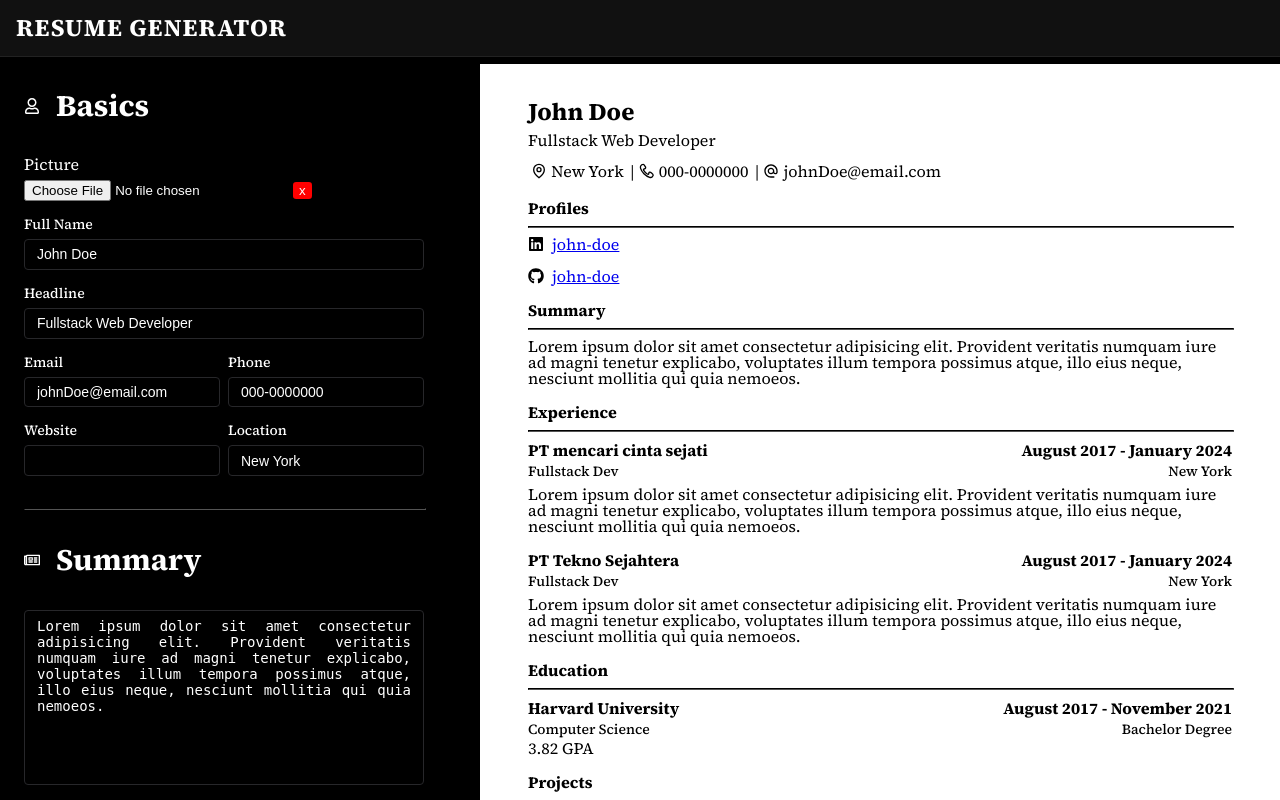
Scenario: Resume Generator › Summary › should able the change the summary data
Expected: the element with id "summary" is shown, [24, 542, 424, 785]
Replace the text in the text box named "summary" with "A full-stack developer is a software engineer proficient in both front-end and back-end development, capable of building complete web applications from start to finish. On the front end, they work wit" at (224, 698), box [24, 610, 424, 785]
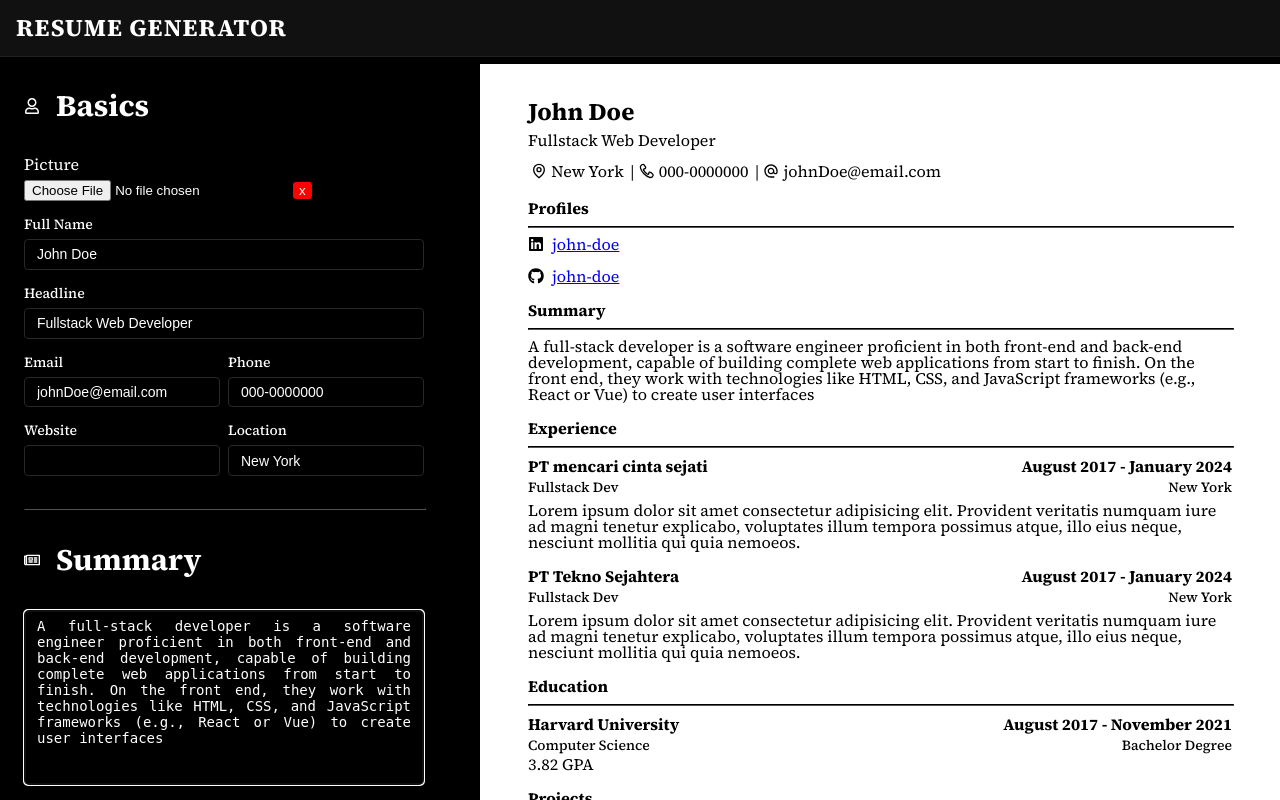
Expected: the element with id "summary" shows "A full-stack developer is a software engineer proficient in both front-end and back-end development, capable of building complete web applications from start to", [528, 335, 1195, 405]
